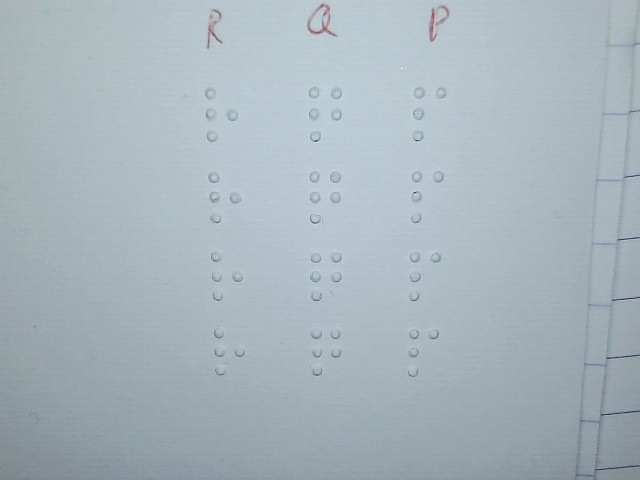P: (411, 84, 448, 142), (410, 168, 445, 224), (408, 249, 443, 302), (406, 326, 440, 377)
Q: (307, 84, 343, 142), (307, 167, 343, 225), (309, 250, 345, 303), (310, 326, 342, 376)
R: (204, 85, 240, 143), (208, 170, 242, 224), (210, 249, 244, 303), (213, 325, 246, 376)
